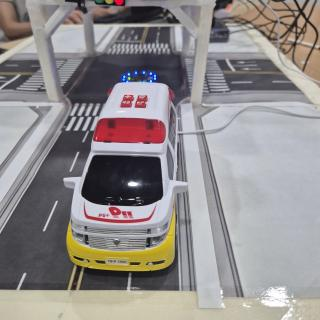Ambulance: (64, 82, 188, 271)
